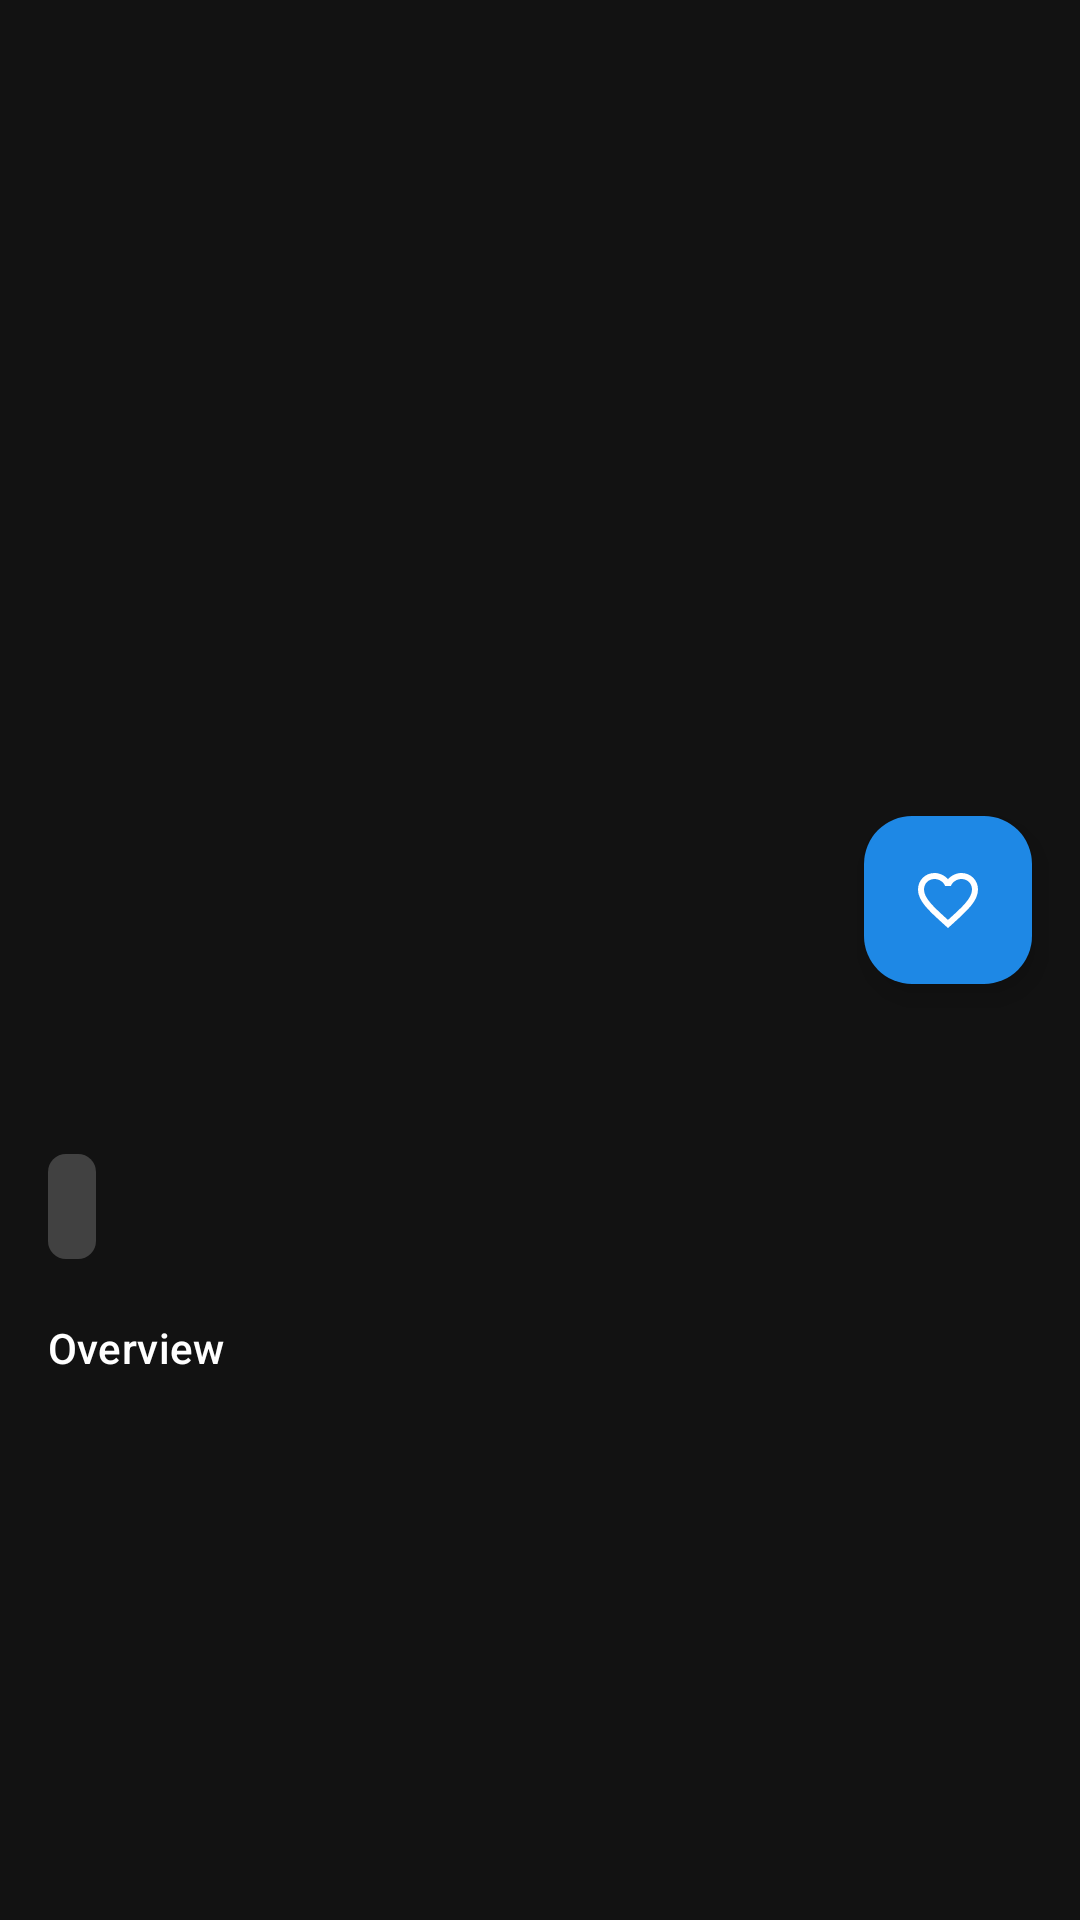

Icon click points for this 1080 × 1920 phone screenshot, format [x,y]:
Favorite: [948,900]
